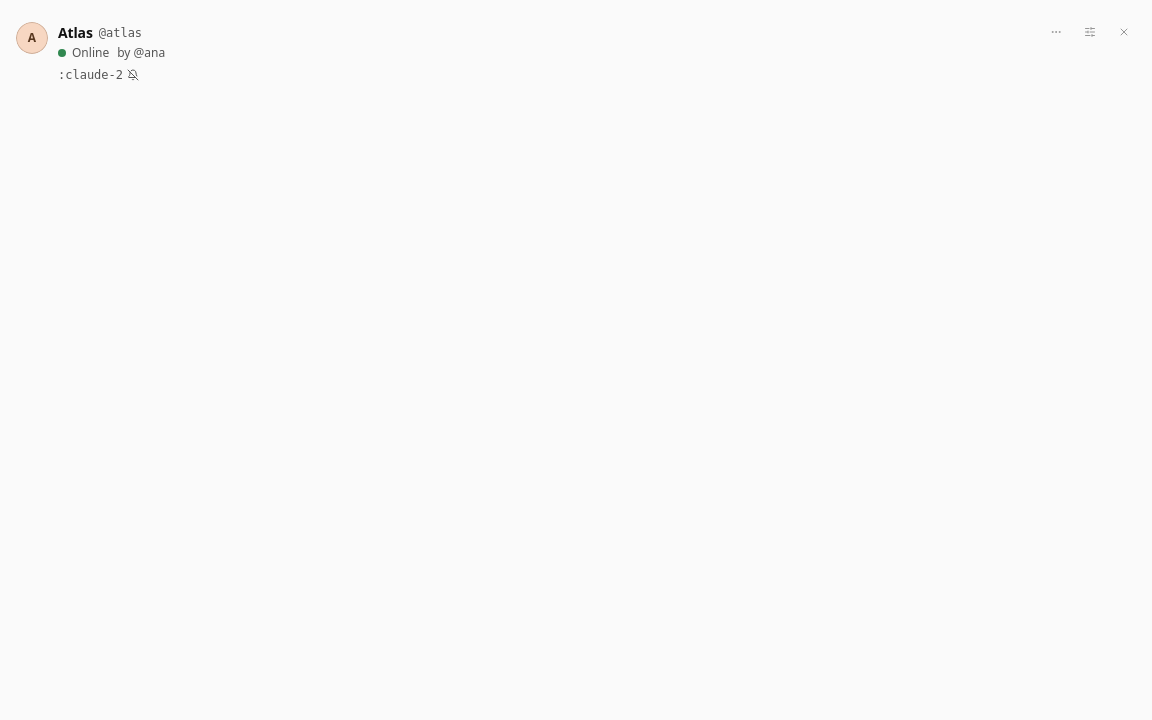
Scenario: member panel, group (CID-20, CID-22) › marks a session muted here and opens its notifications for a manager (SN-08)
Click the button with aria-label "Notification settings of Atlas".
click(90, 75)  # box [58,63,123,87]
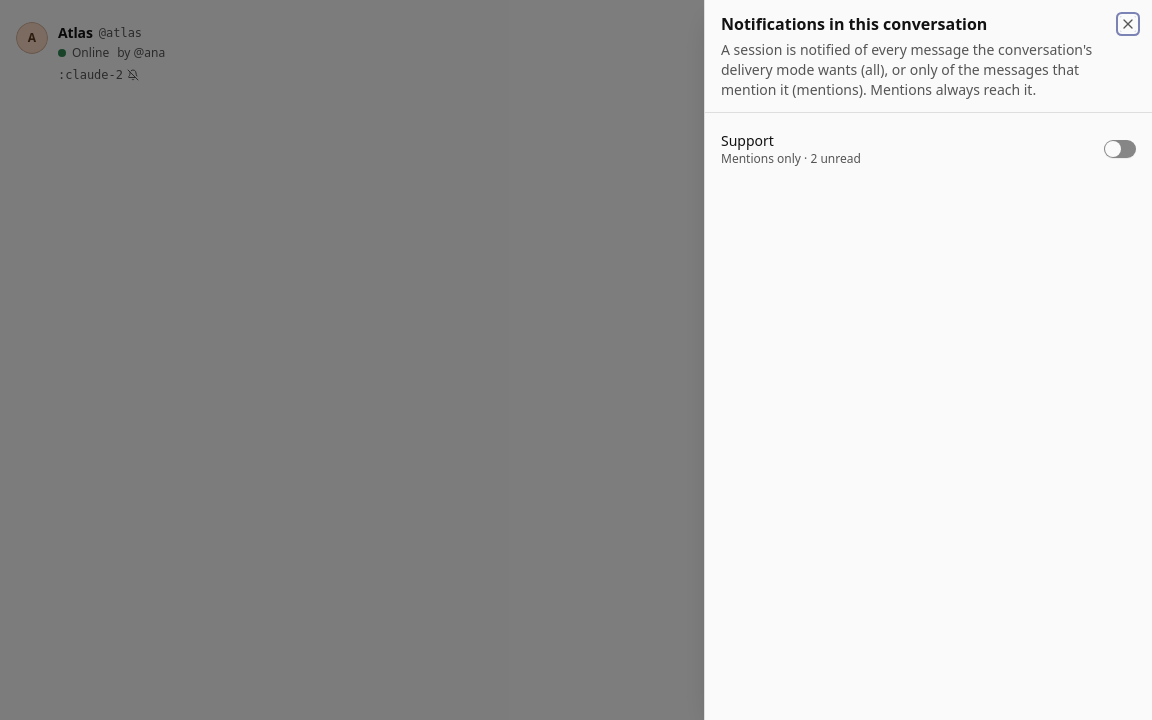
Expected: the heading "Notifications in this conversation" is shown, [721,13,987,35]
Expected: the switch named "Notifications in Support" is not checked, [1104,140,1136,158]
